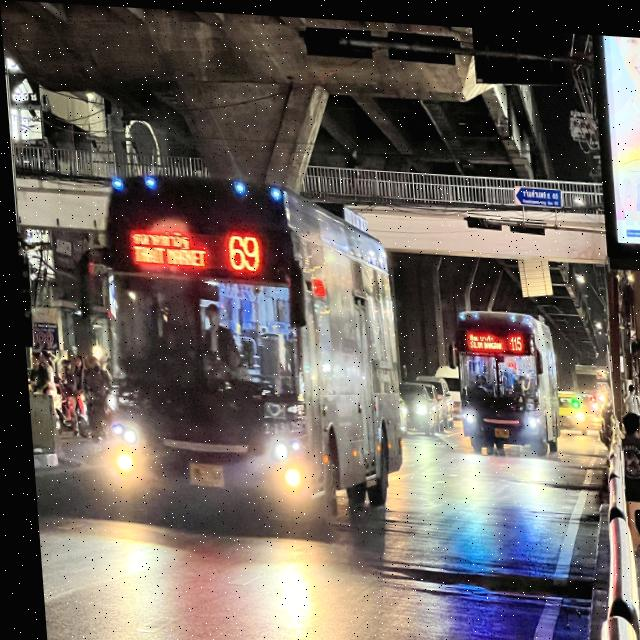Bus-Line-Number: (213, 225, 265, 275), (502, 326, 522, 347)
Destination-Sign-Normal: (120, 224, 214, 270), (461, 324, 501, 347)
TSB-Bus: (85, 159, 406, 531), (438, 299, 562, 455)
